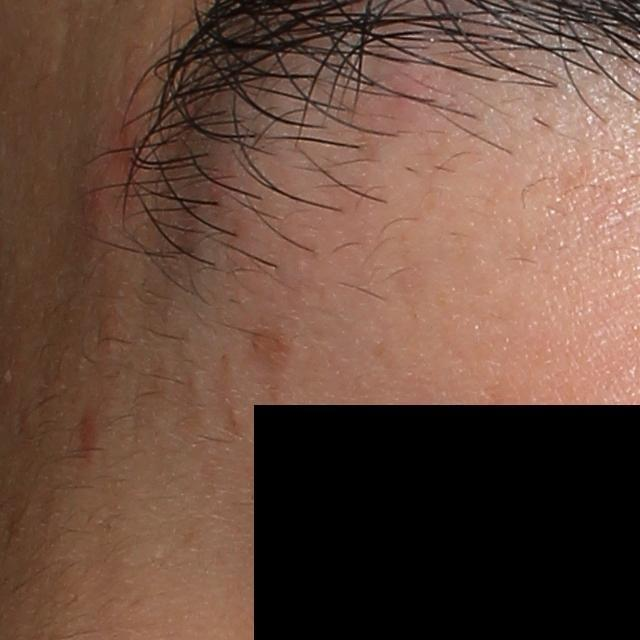melasma: (247, 327, 296, 384)
